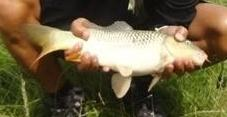Grass Carp: (23, 15, 212, 99)
